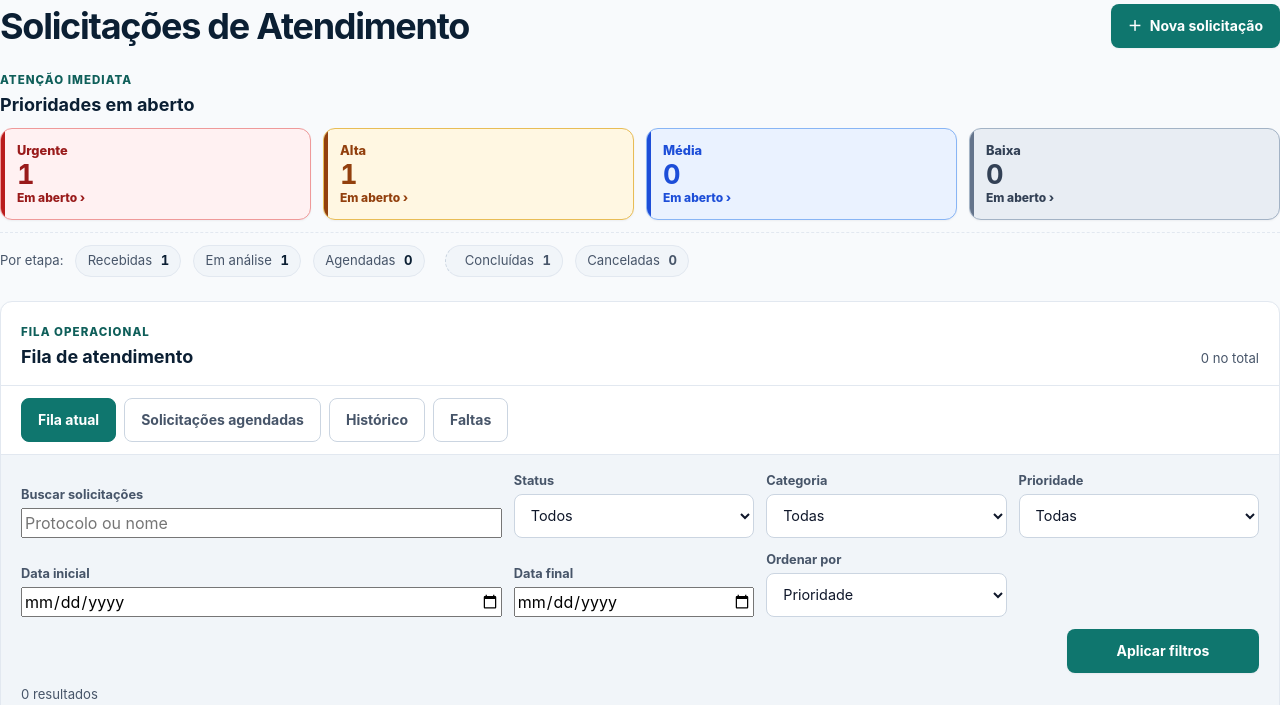
Scenario: SolicitacoesPage › filtra a fila por AGENDADA e ordena por horário, com filtro de dia opcional (ADR 003)
The image size is (1280, 705).
Expected: the heading "Fila de atendimento" is shown, [21,345,193,369]
Expected: the field labelled "Data agendada" is not shown
Select "Agendada" in the dropdown labelled "Status": [634, 516] box [514,494,754,538]
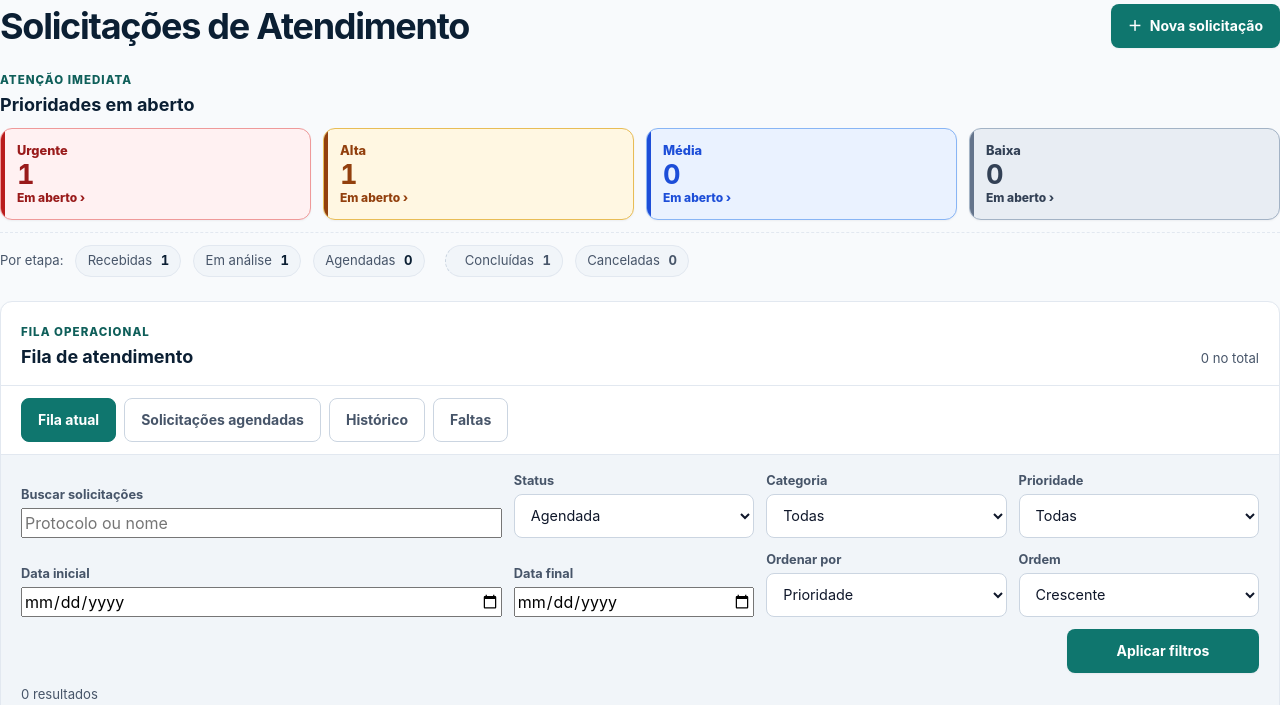
Click the button "Aplicar filtros": [1163, 651] box [1067,629,1259,673]
(page scrolled)
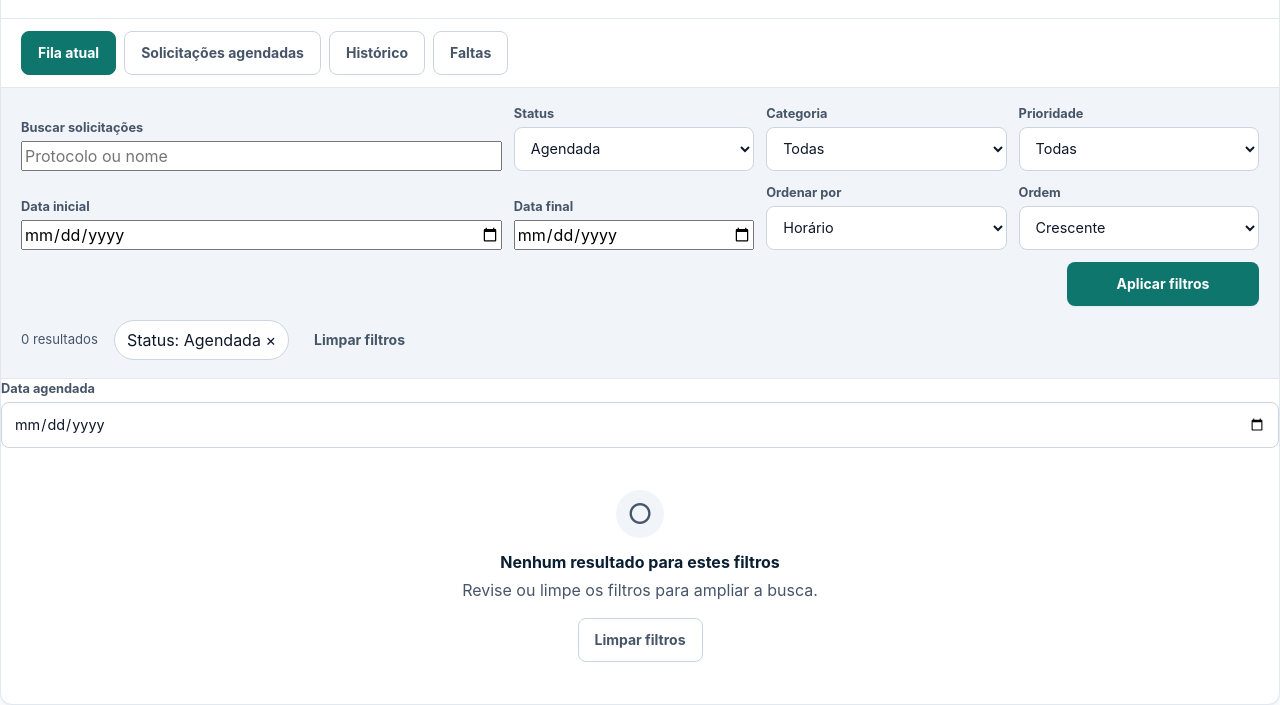
Expected: the dropdown labelled "Ordenar por" shows "Horário", [766,206,1007,250]
In the date field labelled "Data agendada": [640, 425] box [1,402,1279,448], type "2026-09-25"
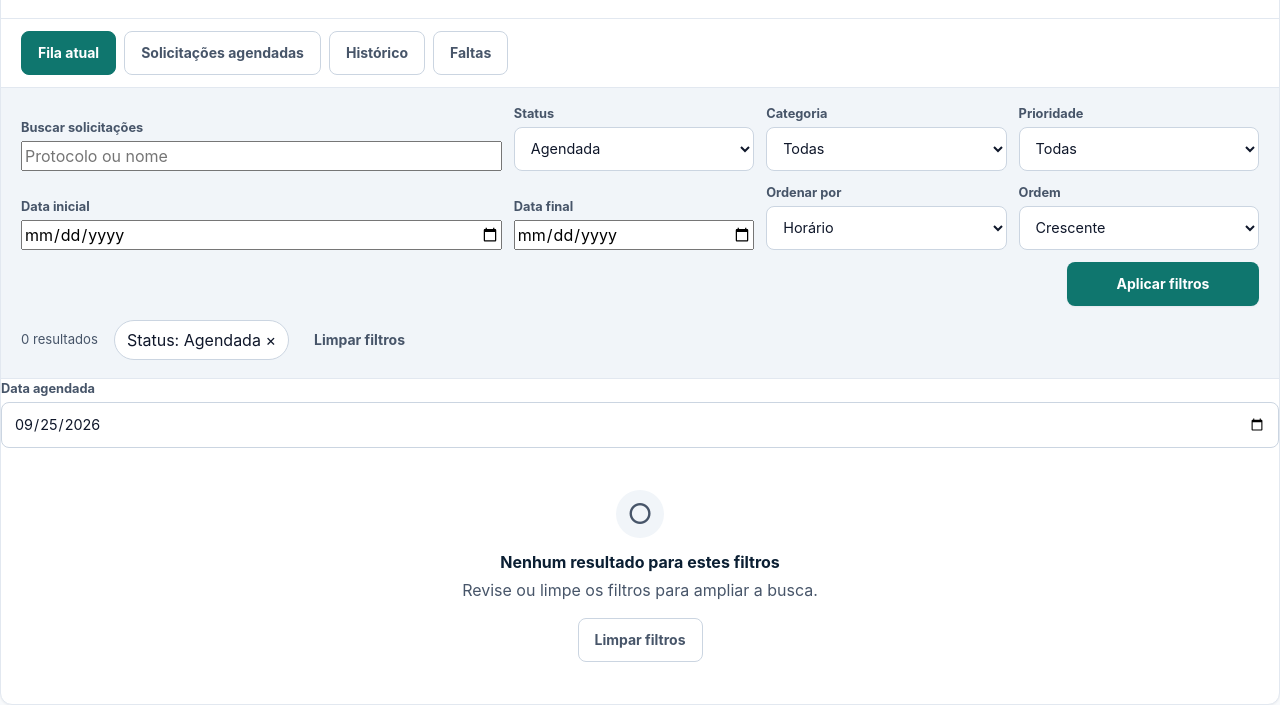
Trocar para outro status descarta o filtro de dia (só faz sentido com AGENDADA).
Select "Recebida" in the dropdown labelled "Status": [634, 149] box [514,127,754,171]
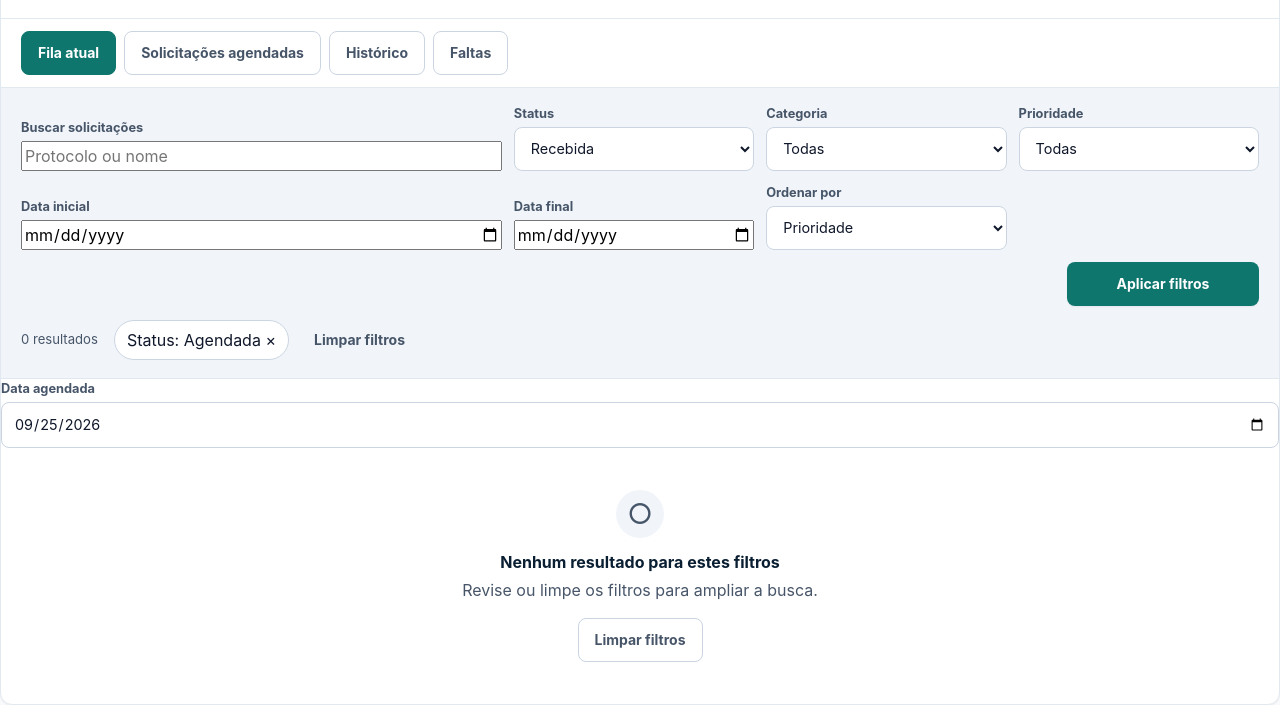
Click the button "Aplicar filtros": [1163, 284] box [1067,262,1259,306]
(page scrolled)
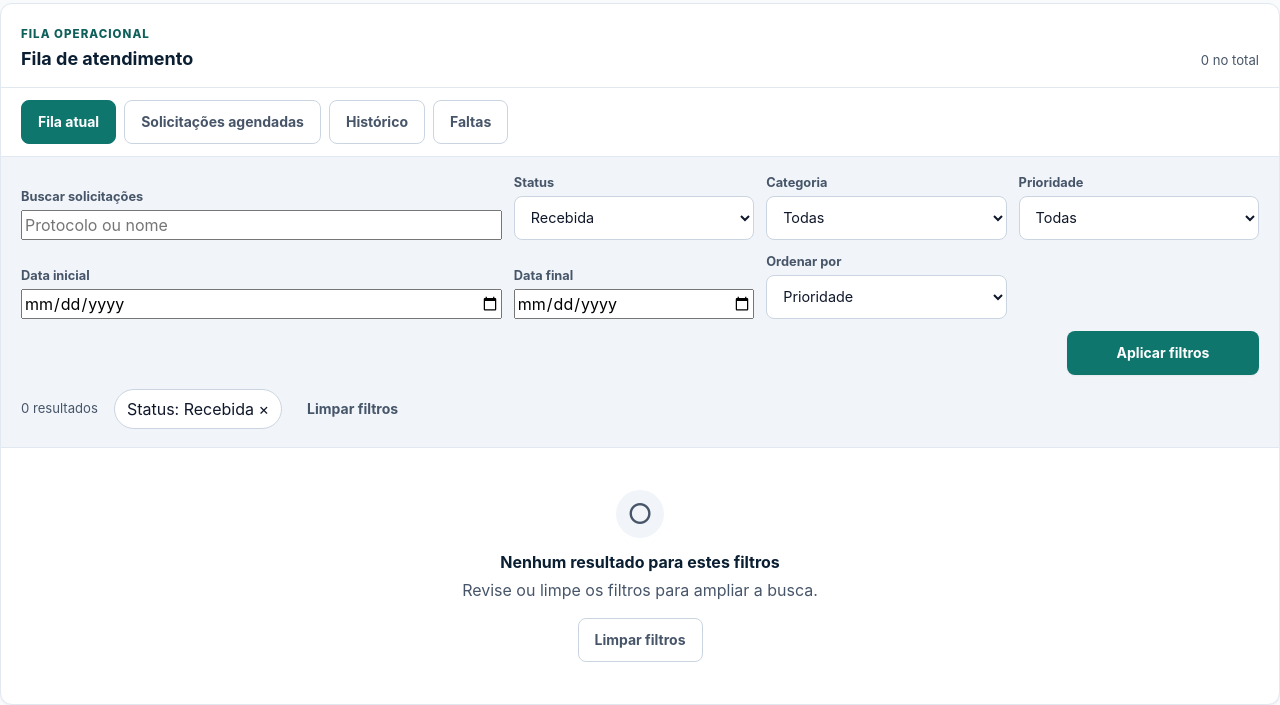
Expected: the label labelled "Data agendada" is gone
